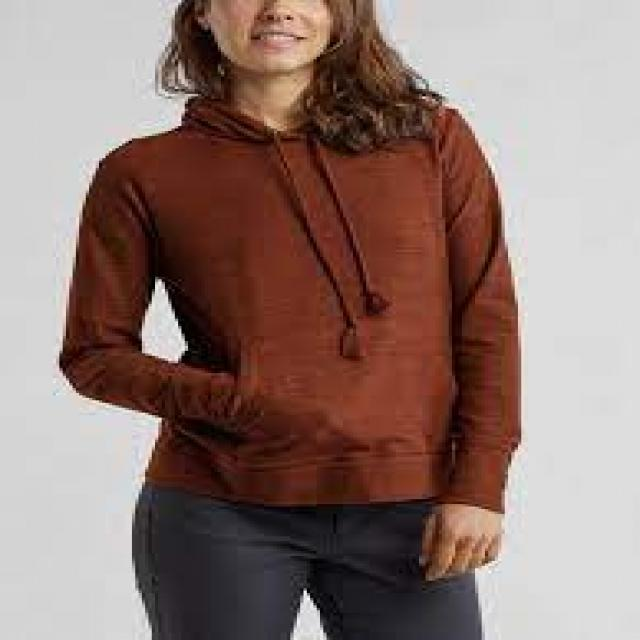plain: (44, 82, 530, 519)
